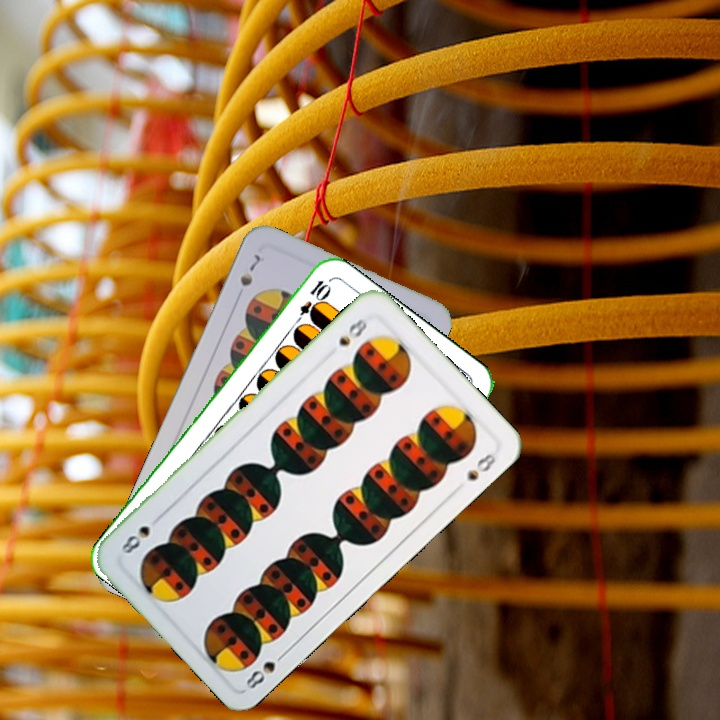E10: (289, 276, 332, 329)
S7: (236, 249, 264, 289)
S8: (241, 647, 291, 692), (335, 314, 370, 349)
